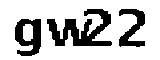2: (118, 6, 147, 53), (87, 7, 113, 52)
g: (11, 16, 43, 60)
w: (46, 17, 91, 52)
